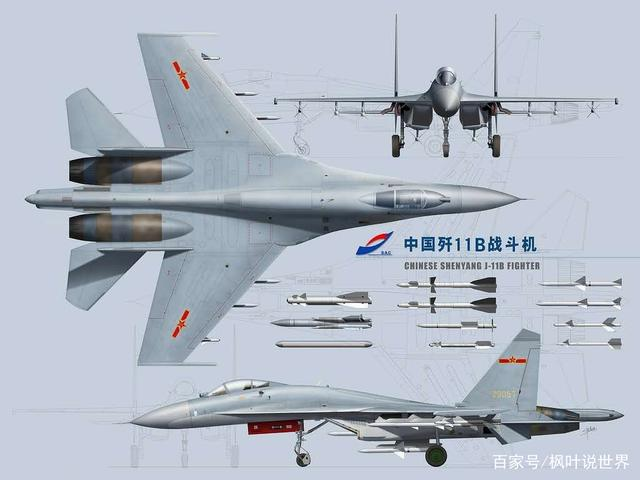airplane: (18, 28, 530, 370), (111, 327, 621, 470), (261, 13, 623, 164)
